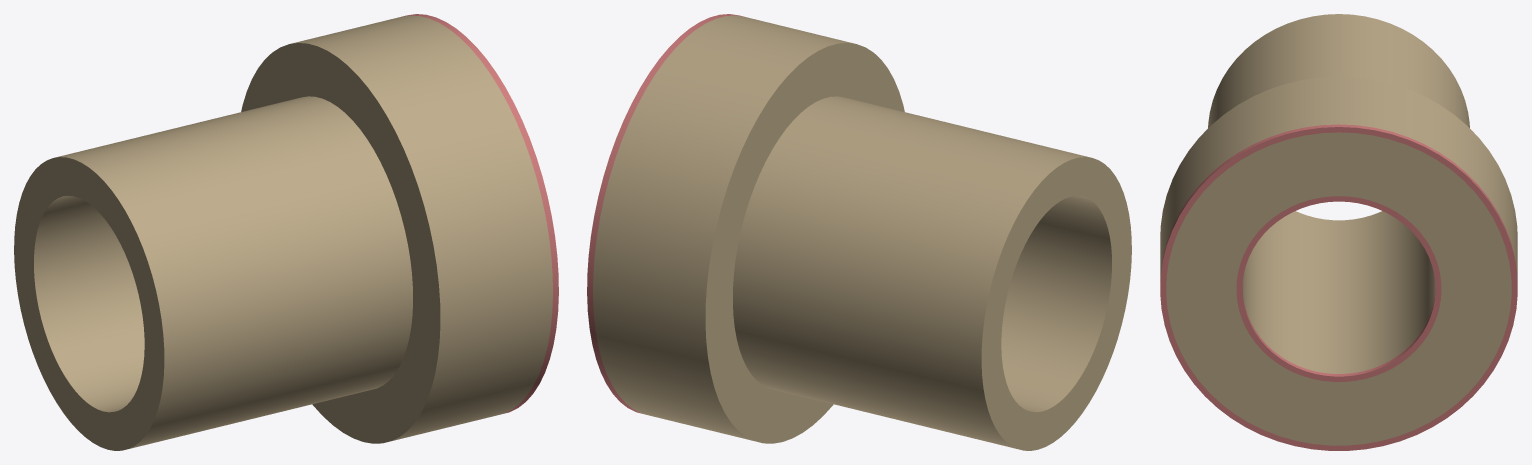
The model's file is step_13.glb.
3 views of the same model, side by side, from view 1: azimuth 30°, elevation 25°; view 2: azimuth 150°, elevation 25°; view 3: azimuth 270°, elevation 25° (orthographic). The views are drawn at different scales.
Visible parts, largest first — view 1: part__bush (right), removed__bush (right); view 2: part__bush (right), removed__bush (right); view 3: part__bush (right), removed__bush (right).
Boxes of the visible parts, x1,y1,x2,y2 form: part__bush (right): [14, 15, 552, 450]; removed__bush (right): [402, 14, 558, 413]; part__bush (right): [593, 15, 1131, 450]; removed__bush (right): [587, 14, 743, 413]; part__bush (right): [1160, 14, 1517, 445]; removed__bush (right): [1160, 124, 1517, 450].
Size of the model in its own units: 31 by 29.98 by 29.99.
